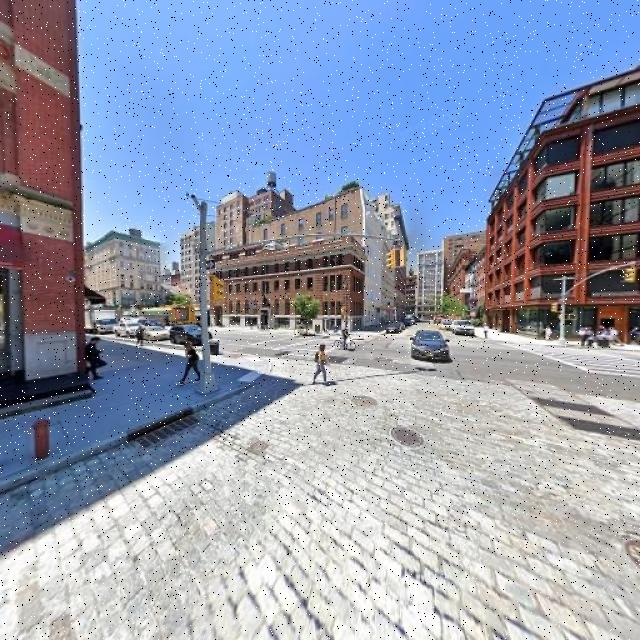Building: (487, 75, 640, 342), (1, 1, 80, 383), (209, 240, 364, 332)
